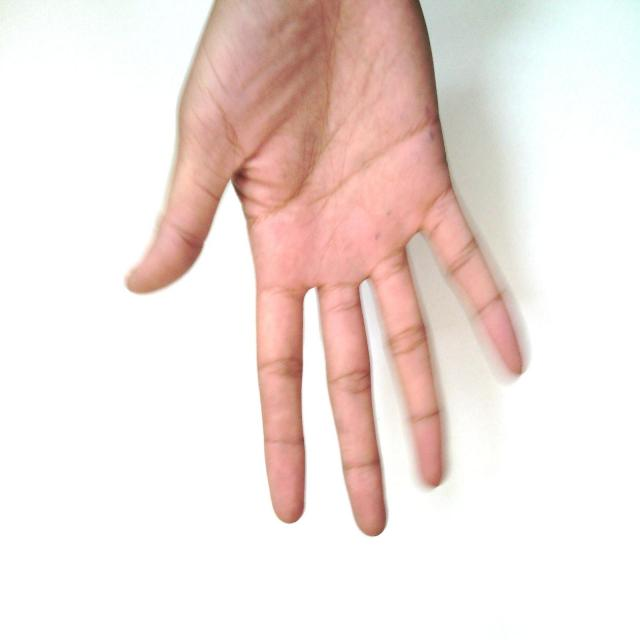others: (123, 0, 562, 535)
